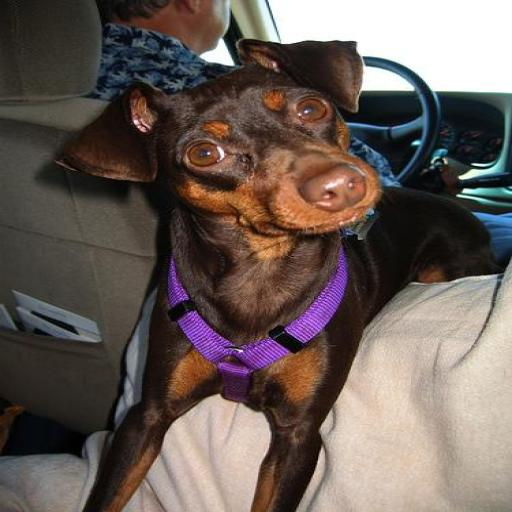dog_face: (79, 36, 389, 256)
